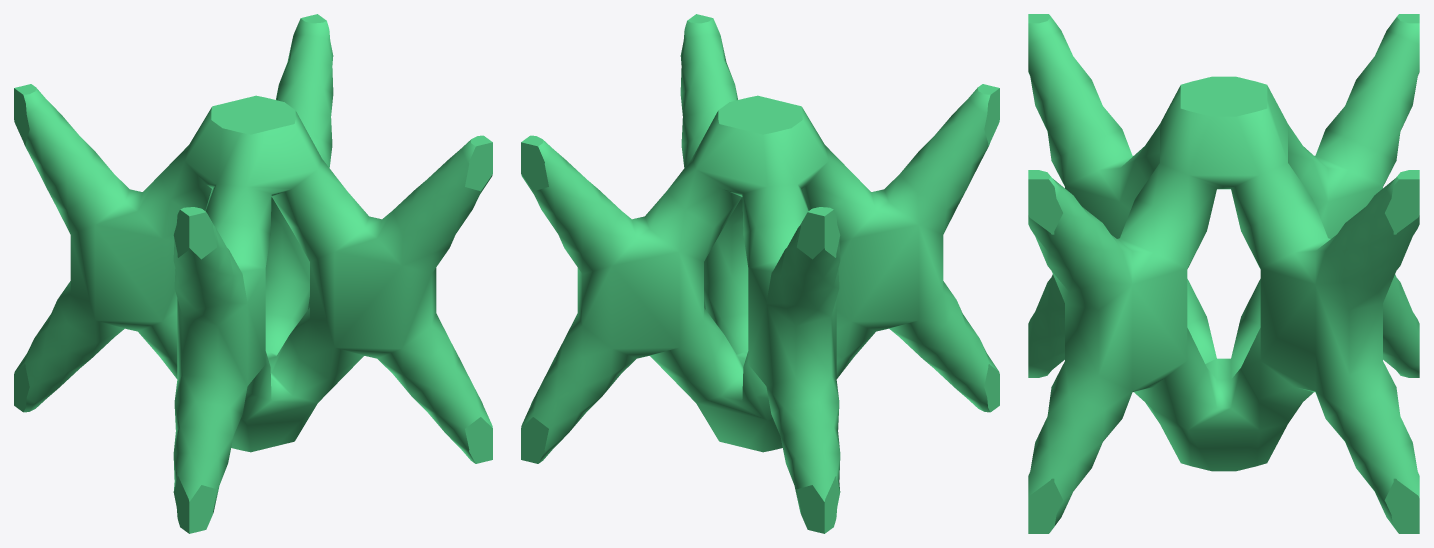
File: Variation3.glb
3 renders of one model, left to right at view 1: azimuth 30°, elevation 25°; view 2: azimuth 150°, elevation 25°; view 3: azimuth 270°, elevation 25°, orthographic. The views are drawn at different scales.
Parts seen in each view (by area): view 1: Mesh_0.013; view 2: Mesh_0.013; view 3: Mesh_0.013.
Part boxes in pixels (x1,y1,x2,y2): Mesh_0.013: (14, 14, 492, 533); Mesh_0.013: (521, 14, 999, 533); Mesh_0.013: (1028, 14, 1419, 533).
Bounding box in the file's own units: 1 × 1 × 1.
